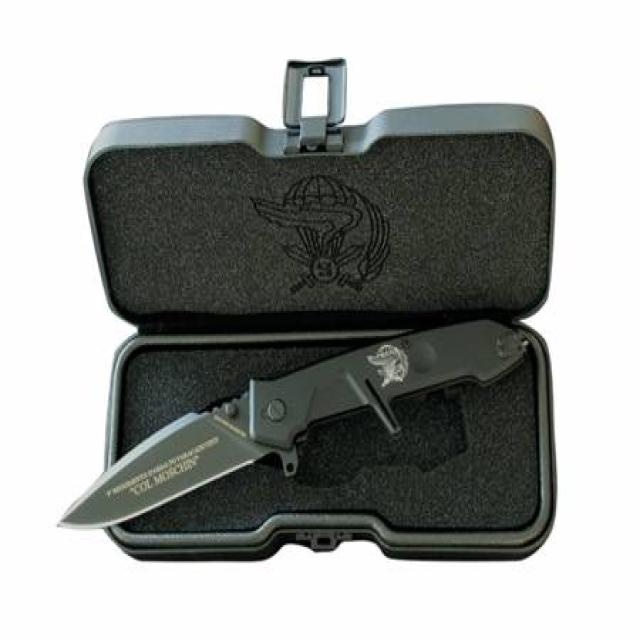knife: (41, 320, 542, 543)
